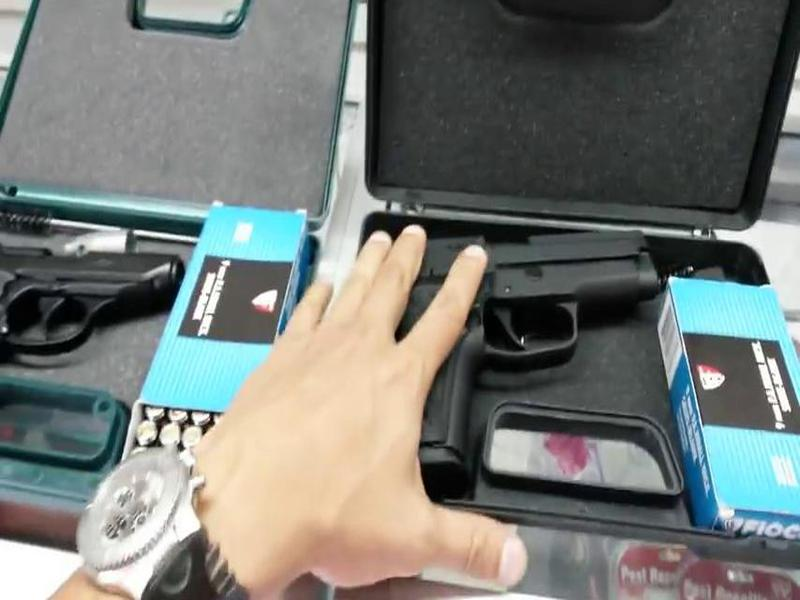Pistola: (394, 214, 685, 478)
